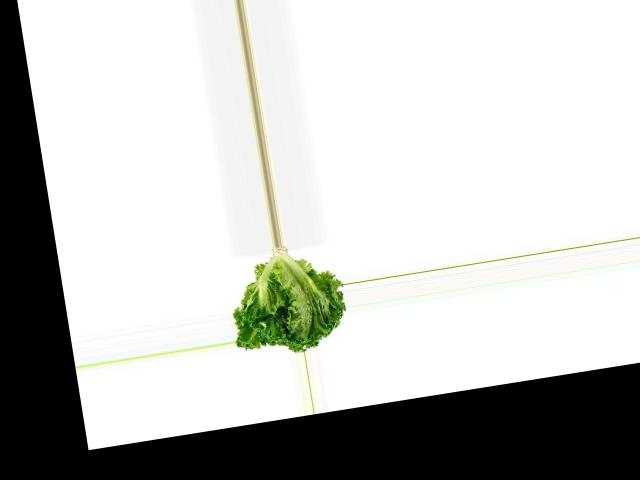lettuce: (223, 237, 351, 360)
